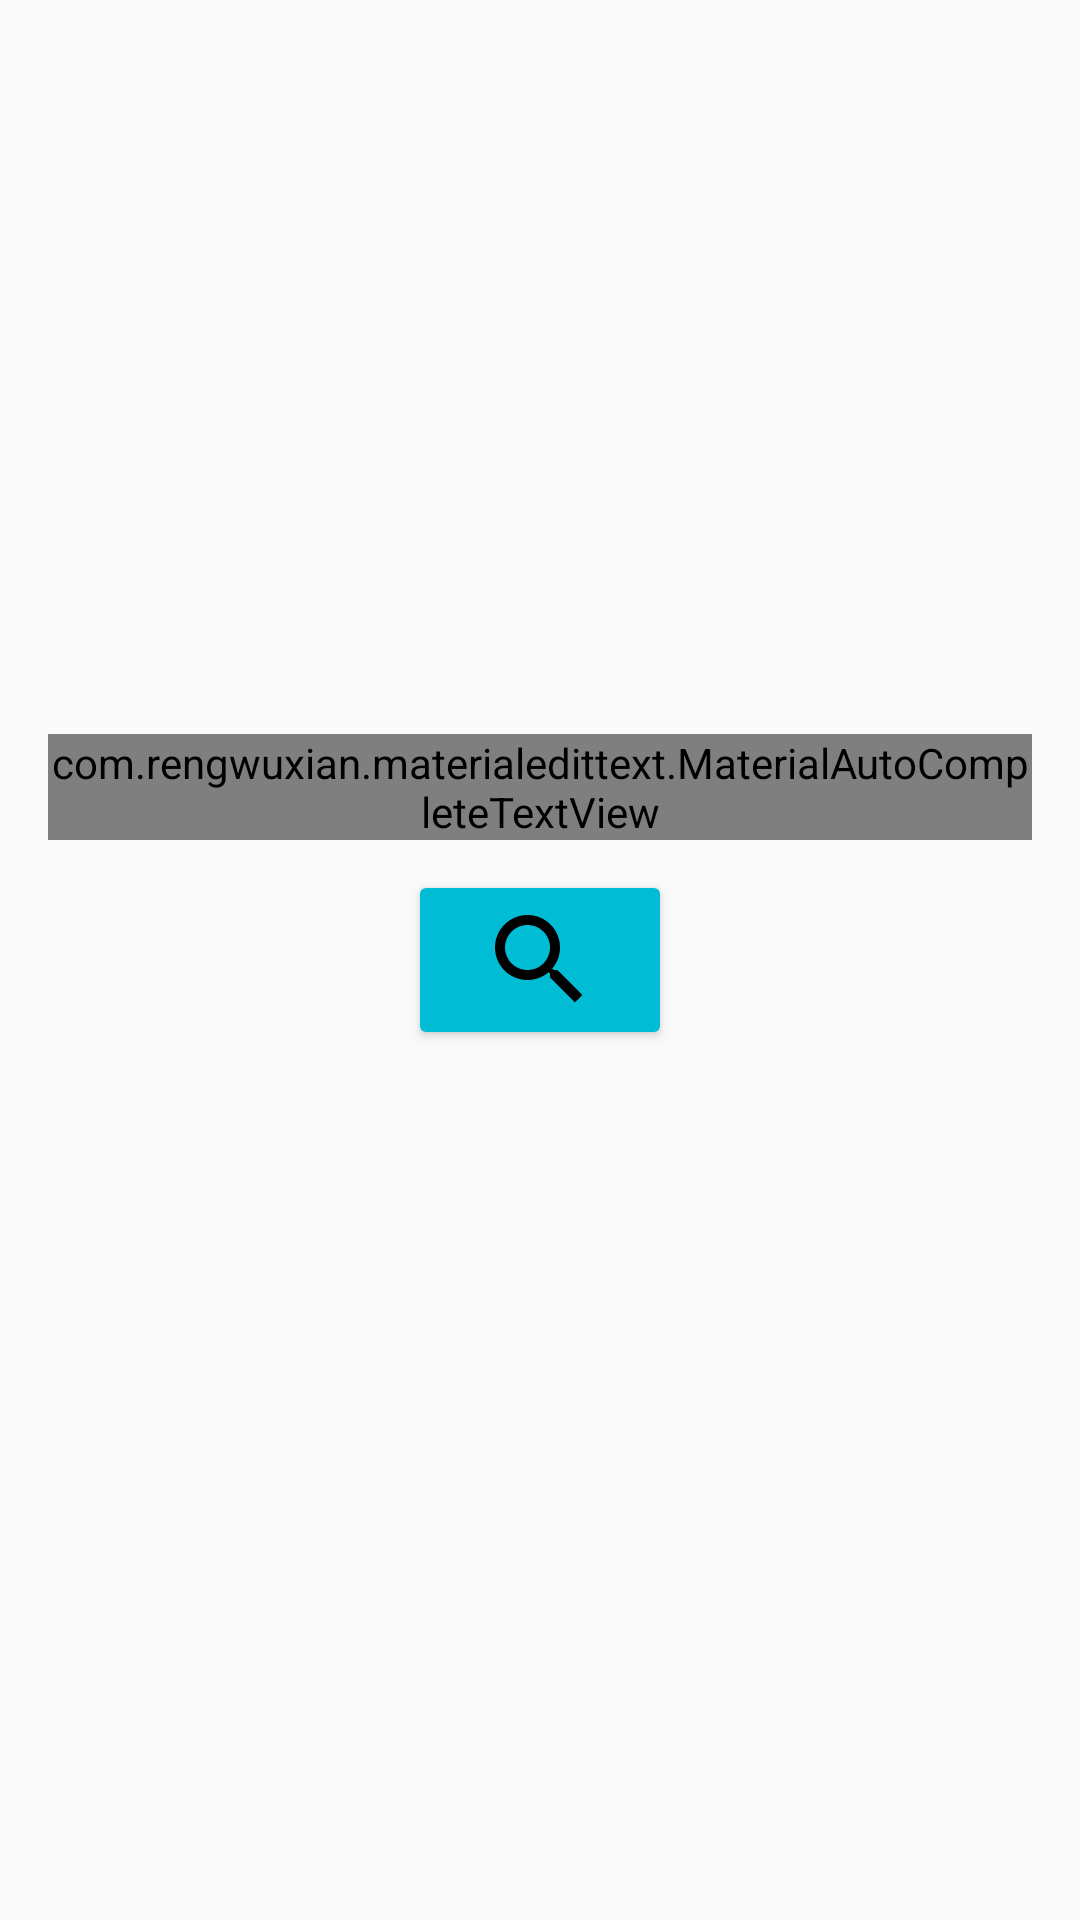

Where icons sit on this 1080px×1920px app screen, as (x1, y1, x2, y2):
Click here to search: (420, 888, 660, 1034)
